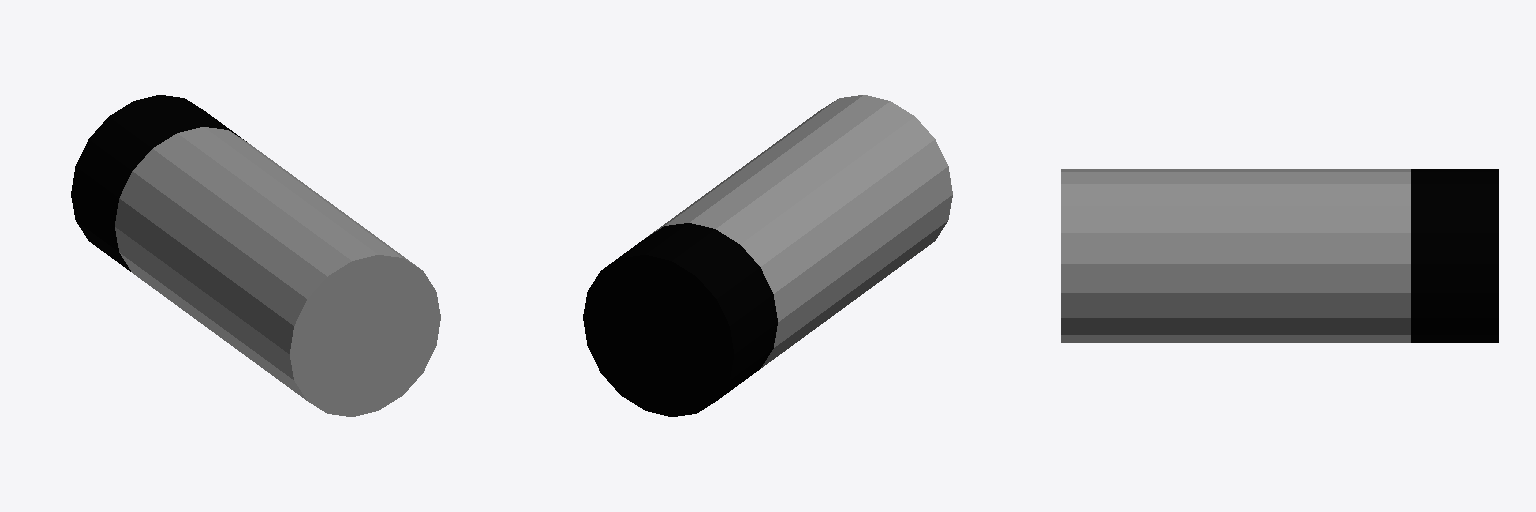
Rendered from marker.obj.
The picture shows the model from 3 angles: view 1: azimuth 30°, elevation 25°; view 2: azimuth 150°, elevation 25°; view 3: azimuth 270°, elevation 25°; orthographic projection.
Parts seen in each view (by area): view 1: Object002; view 2: Object002; view 3: Object002.
Boxes of the visible parts, x1=… form: Object002: x1=71, y1=95, x2=440, y2=416; Object002: x1=583, y1=95, x2=952, y2=416; Object002: x1=1061, y1=169, x2=1498, y2=342.
Size of the model in its own units: 4 by 3.94 by 10.